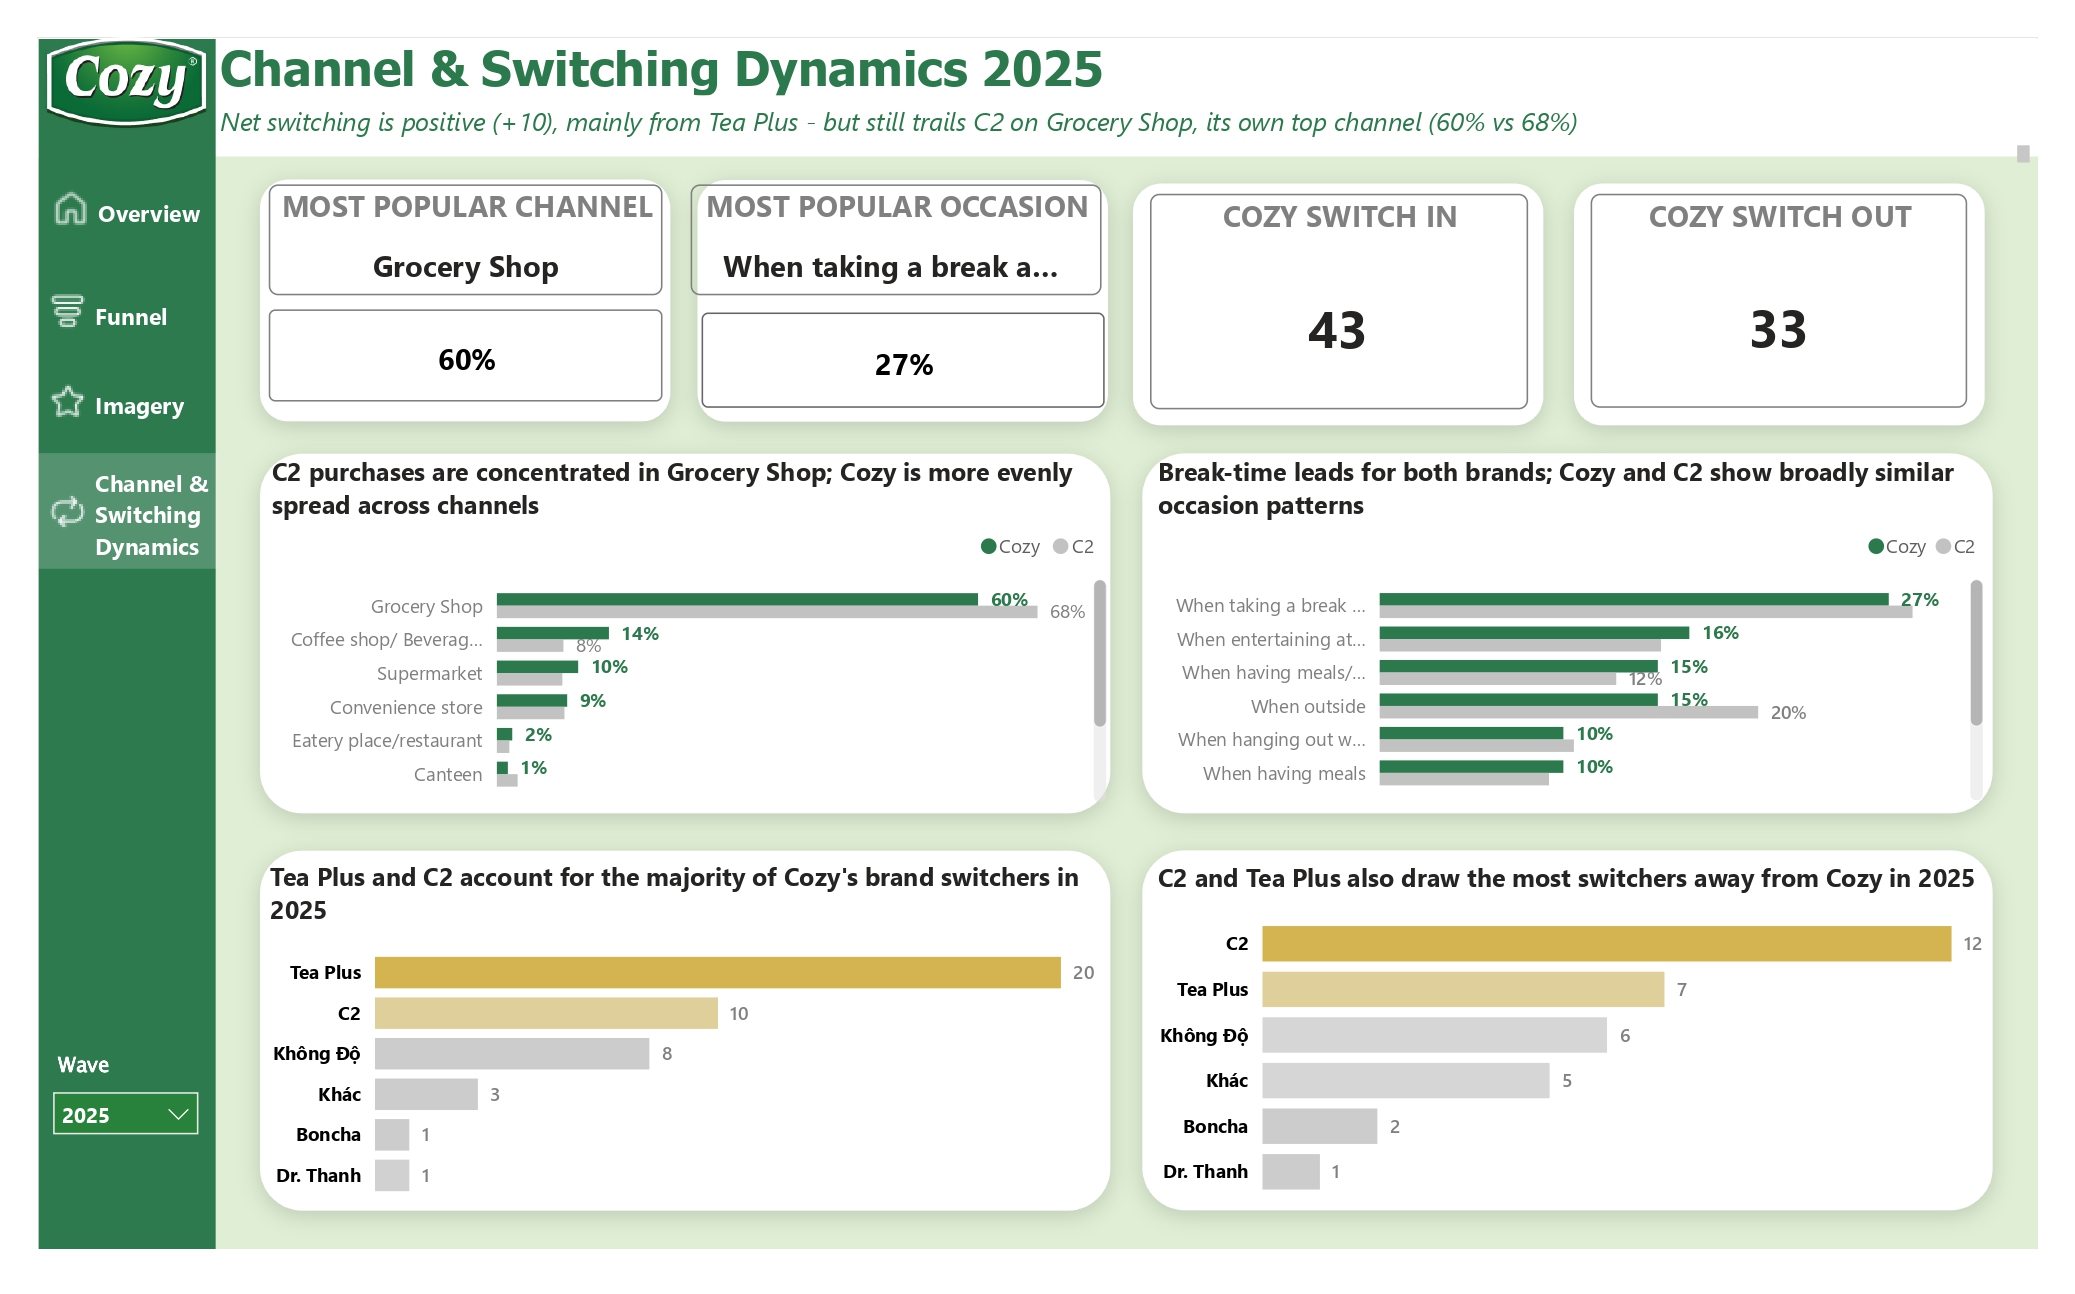

Layout of this report page (visuals, bound fields, positions):
{"tool":"powerbi","page":{"name":"Channel & Switching Dynamics","canvas":[1280,780],"ordinal":3},"visuals":[{"type":"cardVisual","title":"COZY SWITCH IN","fields":{"Data":["Channel.Cozy Switch In"]},"box":[712.1,100,241.5,138],"z":0},{"type":"group","id":"g1","title":"Group 1","box":[148.5,93.9,251.5,139.4],"z":1000},{"type":"group","id":"g2","title":"Group 1","box":[418.2,93.9,263.6,142.4],"z":2000},{"type":"cardVisual","title":"MOST POPULAR CHANNEL","fields":{"Data":["Fact Purchased Channel.Most Popular Channel Name"]},"box":[148.5,93.9,252.4,70.6],"z":3000,"group":"g1"},{"type":"cardVisual","title":"MOST POPULAR OCCASION","fields":{"Data":["Fact Occasion.Most Popular Occasion Name"]},"box":[418.2,93.9,262.5,71.5],"z":3000,"group":"g2"},{"type":"cardVisual","title":"COZY SWITCH OUT","fields":{"Data":["Channel.Cozy Switch Out"]},"box":[993.9,100,241.5,136.5],"z":3000},{"type":"cardVisual","fields":{"Data":["Fact Purchased Channel.Most Popular Channel Value"]},"box":[148.5,173.6,252.4,59.9],"z":4000,"group":"g1"},{"type":"cardVisual","fields":{"Data":["Fact Occasion.Most Popular Occasion Value"]},"box":[425,176.3,258.1,61.1],"z":4000,"group":"g2"},{"type":"slicer","fields":{"Values":["Dim_Respondent.Wave"]},"box":[0,642.4,113.3,73.3],"z":4000},{"type":"clusteredBarChart","title":"C2 purchases are concentrated in Grocery Shop; Cozy is more evenly spread across channels","fields":{"Category":["Fact Purchased Channel.Purchased channel"],"Y":["Fact Purchased Channel.Cozy Channel Share","Fact Purchased Channel.Channel Index vs C2"]},"box":[145.5,266.7,544,222],"z":5000},{"type":"clusteredBarChart","fields":{"Category":["Fact Funnel.Previous_Master_Brand"],"Y":["Channel.Cozy Switch In"]},"box":[143.9,525.8,538,228],"z":6000},{"type":"clusteredBarChart","fields":{"Category":["Dim Master Brand.Master_Brand"],"Y":["Channel.Cozy Switch Out"]},"box":[712.1,527.3,538,228],"z":7000},{"type":"clusteredBarChart","title":"Break-time leads for both brands; Cozy and C2 show broadly similar occasion patterns","fields":{"Category":["Fact Occasion.Occasion"],"Y":["Fact Occasion.Cozy Occasion Share","Fact Occasion.C2 Occasion Share"]},"box":[712.1,266.7,537.9,221.2],"z":8000},{"type":"image","box":[0,0,112.5,60.4],"z":9000},{"type":"actionButton","title":"Button Home","box":[1.6,84.1,112.7,50.8],"z":10000},{"type":"actionButton","title":"Button Home","box":[0,151.6,112.7,47.6],"z":11000},{"type":"actionButton","title":"Button Home","box":[0,216,112.7,33.3],"z":12000},{"type":"actionButton","title":"Button Home","box":[0,266,116,74],"z":13000},{"type":"textbox","title":"Channel & Switching Dynamics 2025","box":[112.1,0,1168.2,84.8],"z":14000}]}

Visuals, with their boxes on the page's 1280x780 design canvas (x1, y1, x2, y2). These are canvas units, not pixel positions in the 2075x1294 screenshot, which may show the page scaled, cropped or inside an application window:
"COZY SWITCH IN" cardVisual: locate(712, 100, 954, 238)
"Group 1" group: locate(148, 94, 400, 233)
"Group 1" group: locate(418, 94, 682, 236)
"MOST POPULAR CHANNEL" cardVisual: locate(148, 94, 401, 164)
"MOST POPULAR OCCASION" cardVisual: locate(418, 94, 681, 165)
"COZY SWITCH OUT" cardVisual: locate(994, 100, 1235, 236)
cardVisual - Fact Purchased Channel.Most Popular Channel Value: locate(148, 174, 401, 234)
cardVisual - Fact Occasion.Most Popular Occasion Value: locate(425, 176, 683, 237)
slicer - Dim_Respondent.Wave: locate(0, 642, 113, 716)
"C2 purchases are concentrated in Grocery Shop; Cozy is more evenly spread across channels" clusteredBarChart: locate(146, 267, 690, 489)
clusteredBarChart - Fact Funnel.Previous_Master_Brand x Channel.Cozy Switch In: locate(144, 526, 682, 754)
clusteredBarChart - Dim Master Brand.Master_Brand x Channel.Cozy Switch Out: locate(712, 527, 1250, 755)
"Break-time leads for both brands; Cozy and C2 show broadly similar occasion patterns" clusteredBarChart: locate(712, 267, 1250, 488)
image: locate(0, 0, 112, 60)
"Button Home" actionButton: locate(2, 84, 114, 135)
"Button Home" actionButton: locate(0, 152, 113, 199)
"Button Home" actionButton: locate(0, 216, 113, 249)
"Button Home" actionButton: locate(0, 266, 116, 340)
"Channel & Switching Dynamics 2025" textbox: locate(112, 0, 1280, 85)
